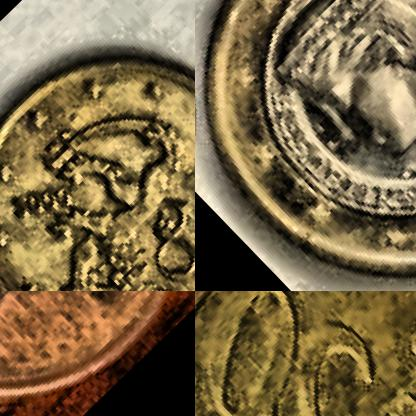coin: (195, 0, 415, 290), (0, 0, 194, 290), (195, 291, 415, 415), (0, 291, 194, 415)
